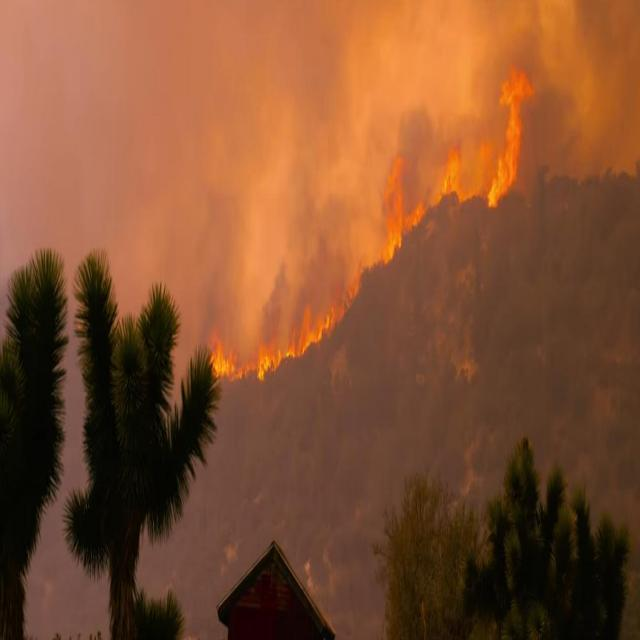Fire: (192, 278, 360, 388), (377, 148, 479, 268), (482, 58, 536, 217)
